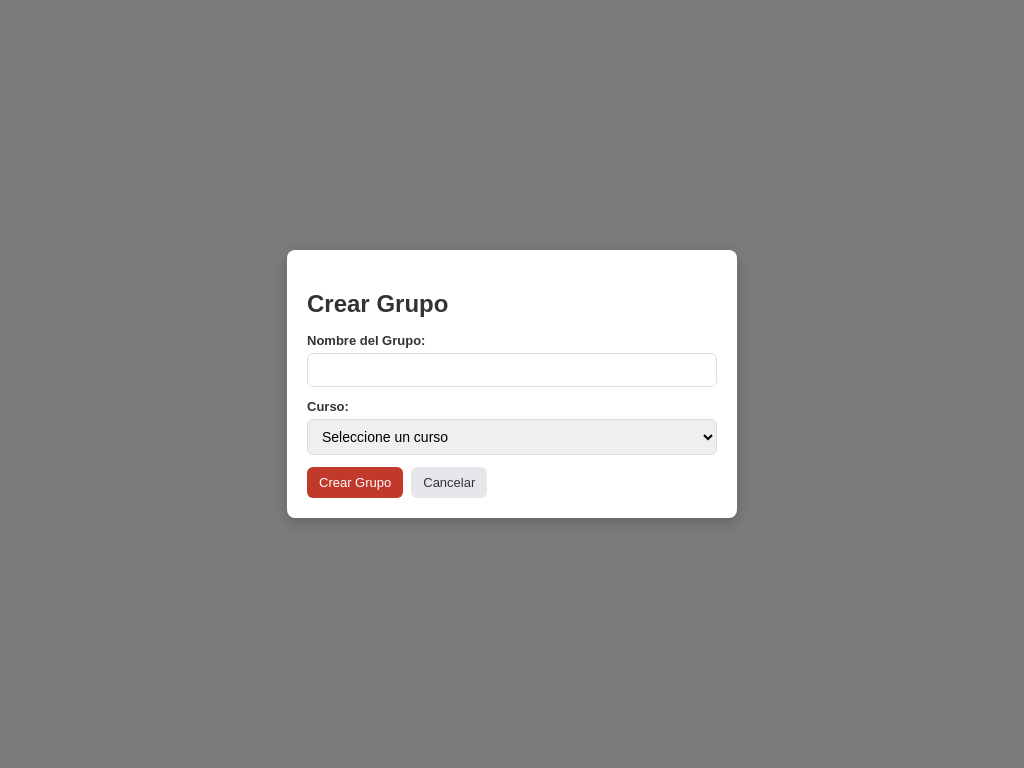
Test: CreacionGrupo › Validaciones del Formulario › muestra error si no hay un profesor en localStorage
Expected: the dropdown is shown, [307,419,717,455]
Type "Grupo Alpha" into the field labelled "Nombre del Grupo:" at (512, 370), box [307,353,717,387]
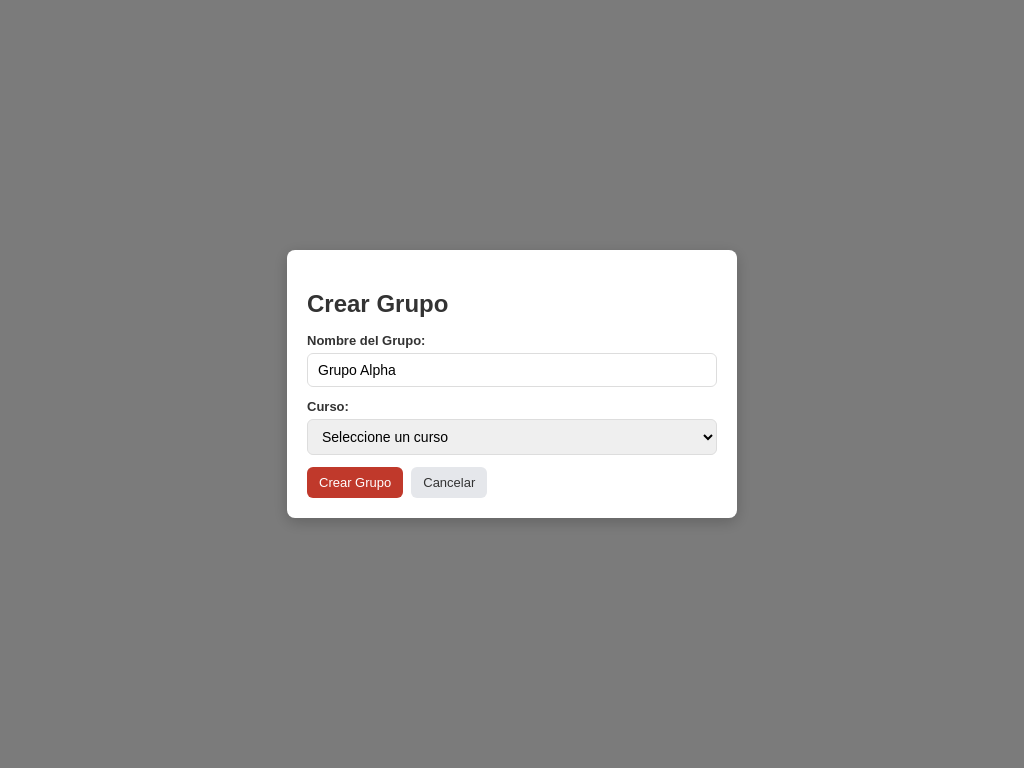
Select "Matemáticas" in the dropdown at (512, 437), box [307,419,717,455]
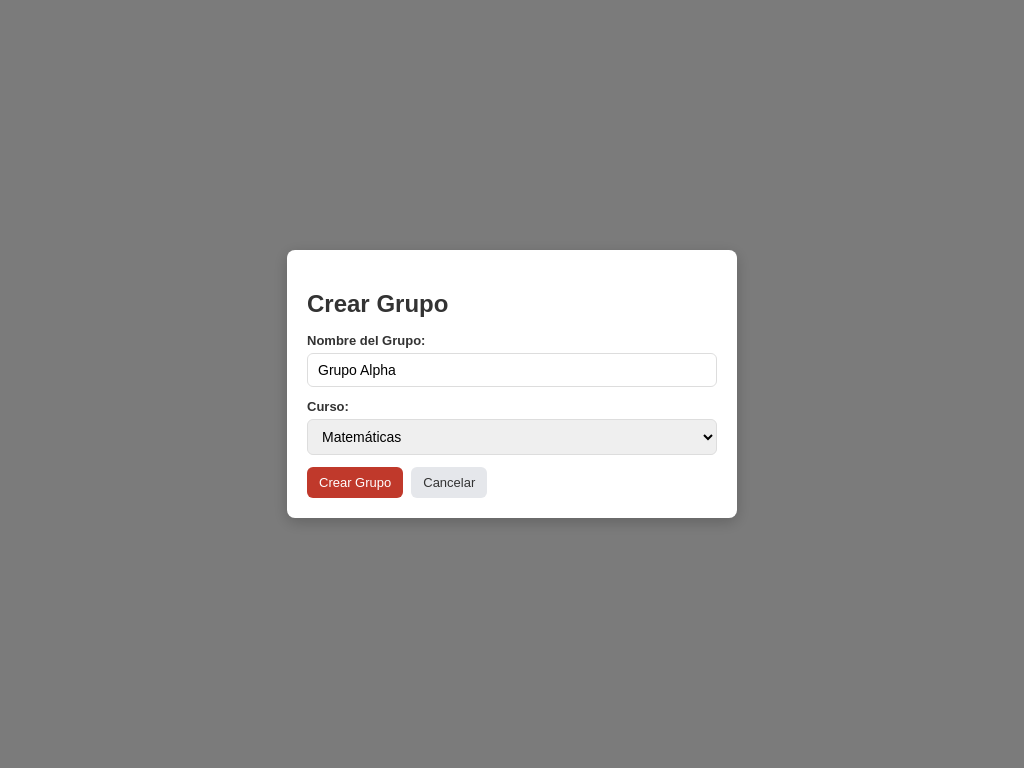
Click the button with test id "crearGrupo" at (355, 482), box [307,467,403,498]
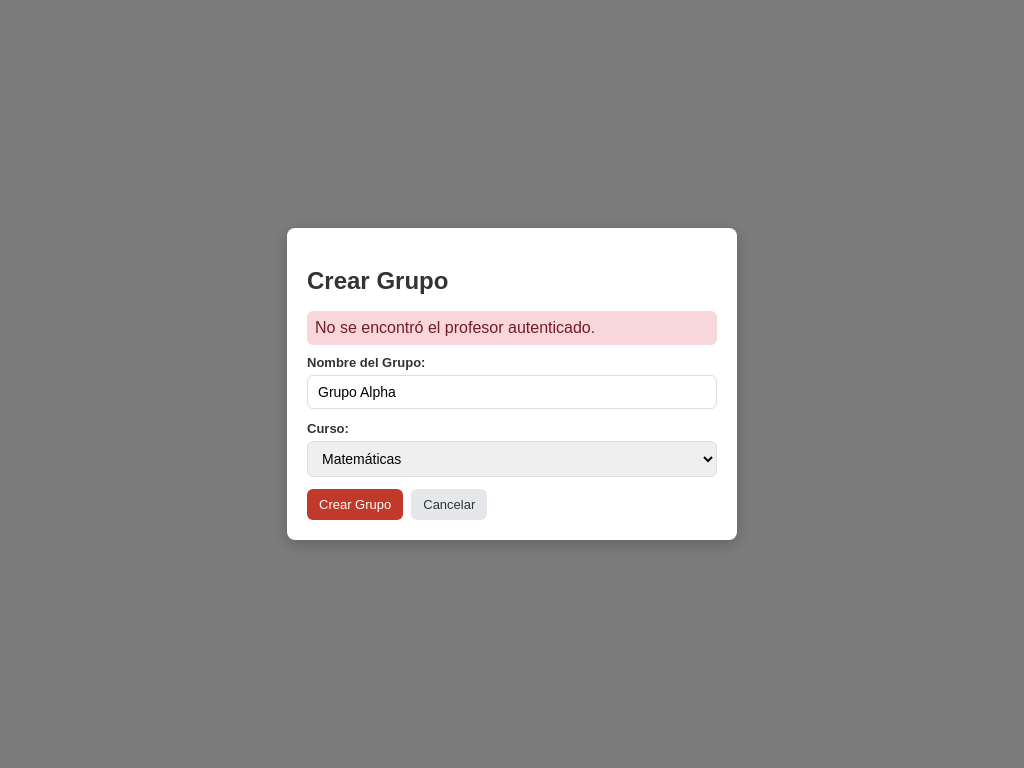
Result: the text "No se encontró el profesor autenticado." is shown at [307,312,717,346]
